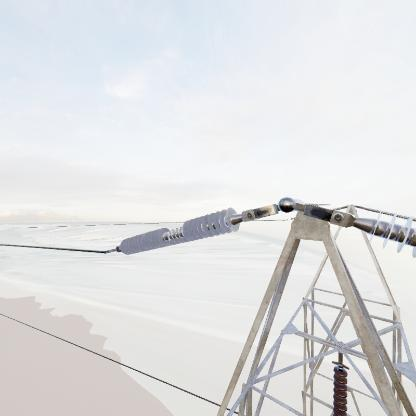insulator: (115, 205, 243, 255)
